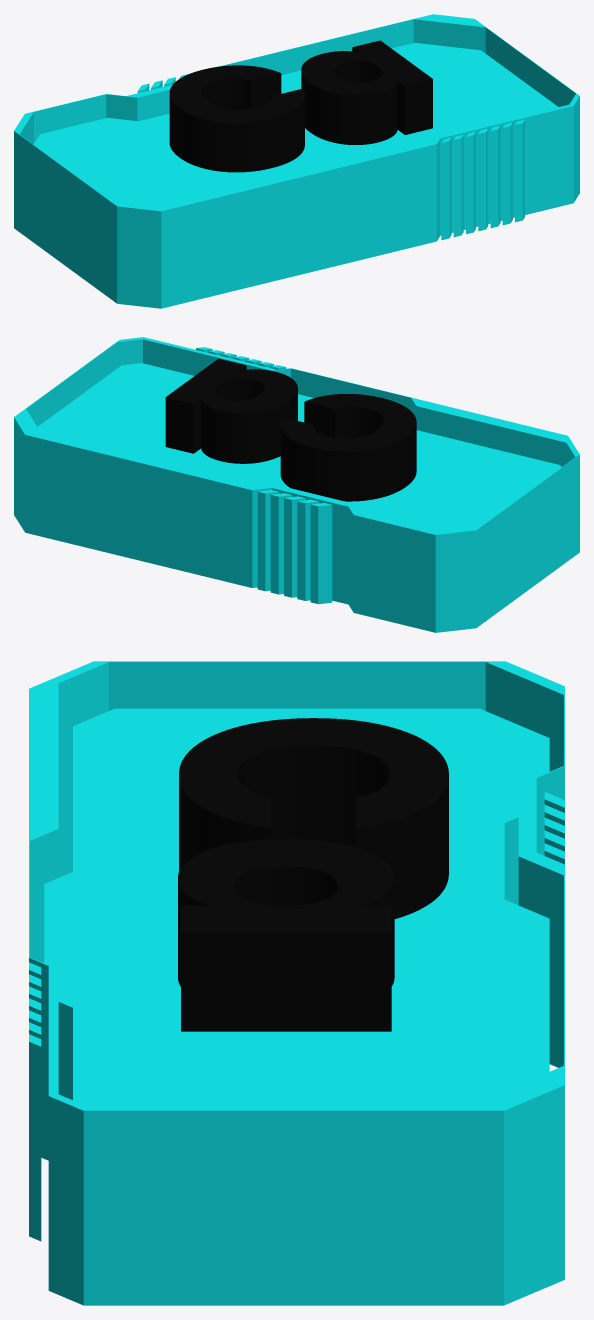
File: 3.HurufCa.glb
The picture shows the model from 3 angles, top to bottom: view 1: azimuth 30°, elevation 25°; view 2: azimuth 150°, elevation 25°; view 3: azimuth 270°, elevation 25°; orthographic projection. The views are drawn at different scales.
Parts seen in each view (by area): view 1: Curve.056, Curve.050, Curve.064, Curve.065, Curve.057, Curve.061, Curve.058, Curve.062, Curve.060, Curve.059, Curve.063; view 2: Curve.056, Curve.050, Curve.064, Curve.065, Curve.055, Curve.052, Curve.053, Curve.054, Curve.051; view 3: Curve.056, Curve.050, Curve.065, Curve.064, Curve.063.
Boxes of the visible parts, x1,y1,x2,y2 form: Curve.056: (14, 14, 579, 308); Curve.050: (33, 43, 558, 207); Curve.064: (169, 65, 304, 172); Curve.065: (301, 40, 432, 144); Curve.057: (441, 137, 451, 240); Curve.061: (490, 125, 500, 228); Curve.058: (453, 134, 463, 237); Curve.062: (502, 122, 512, 225); Curve.060: (478, 128, 488, 231); Curve.059: (466, 131, 475, 234); Curve.063: (515, 119, 524, 222); Curve.056: (14, 337, 579, 632); Curve.050: (37, 363, 561, 532); Curve.064: (280, 394, 416, 501); Curve.065: (165, 358, 297, 463); Curve.055: (310, 503, 332, 604); Curve.052: (270, 493, 292, 594); Curve.053: (284, 496, 305, 597); Curve.054: (297, 499, 319, 600); Curve.051: (257, 490, 279, 591); Curve.056: (29, 661, 564, 1305); Curve.050: (44, 708, 549, 1110); Curve.065: (178, 839, 394, 1031); Curve.064: (179, 718, 448, 918); Curve.063: (29, 1034, 41, 1241).
Bounding box in the file's own units: 0.2966 × 0.0778 × 0.1496.
